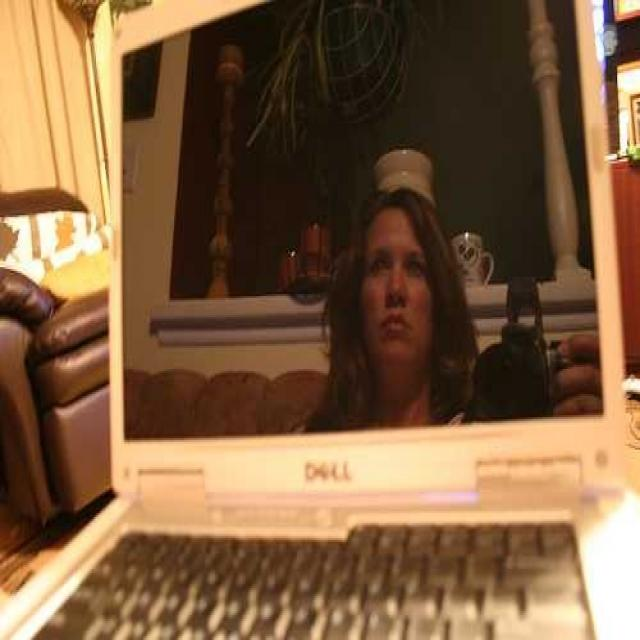laptop: (59, 25, 637, 640)
